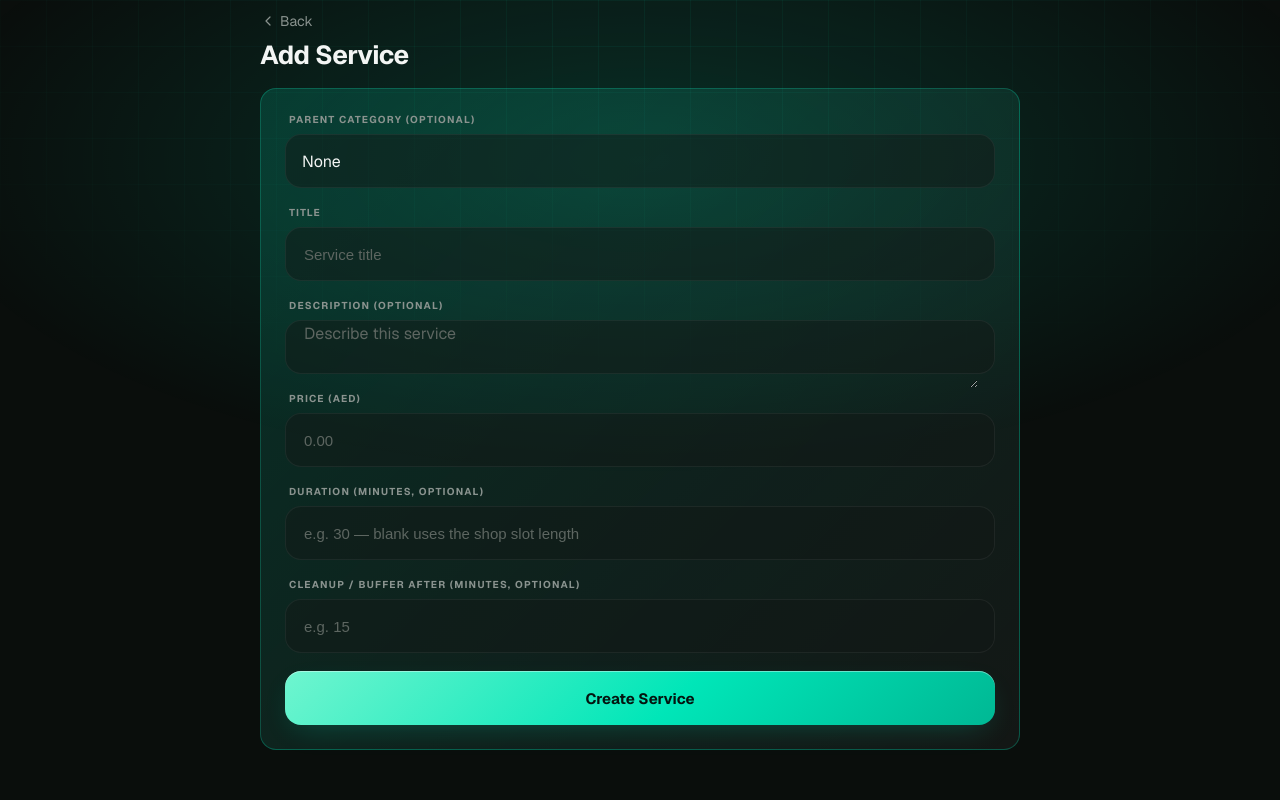
ServiceEdit (create) › blocks save without a title
The image size is (1280, 800).
Click the button "Create Service" at (640, 698), box x1=285 y1=671 x2=995 y2=725
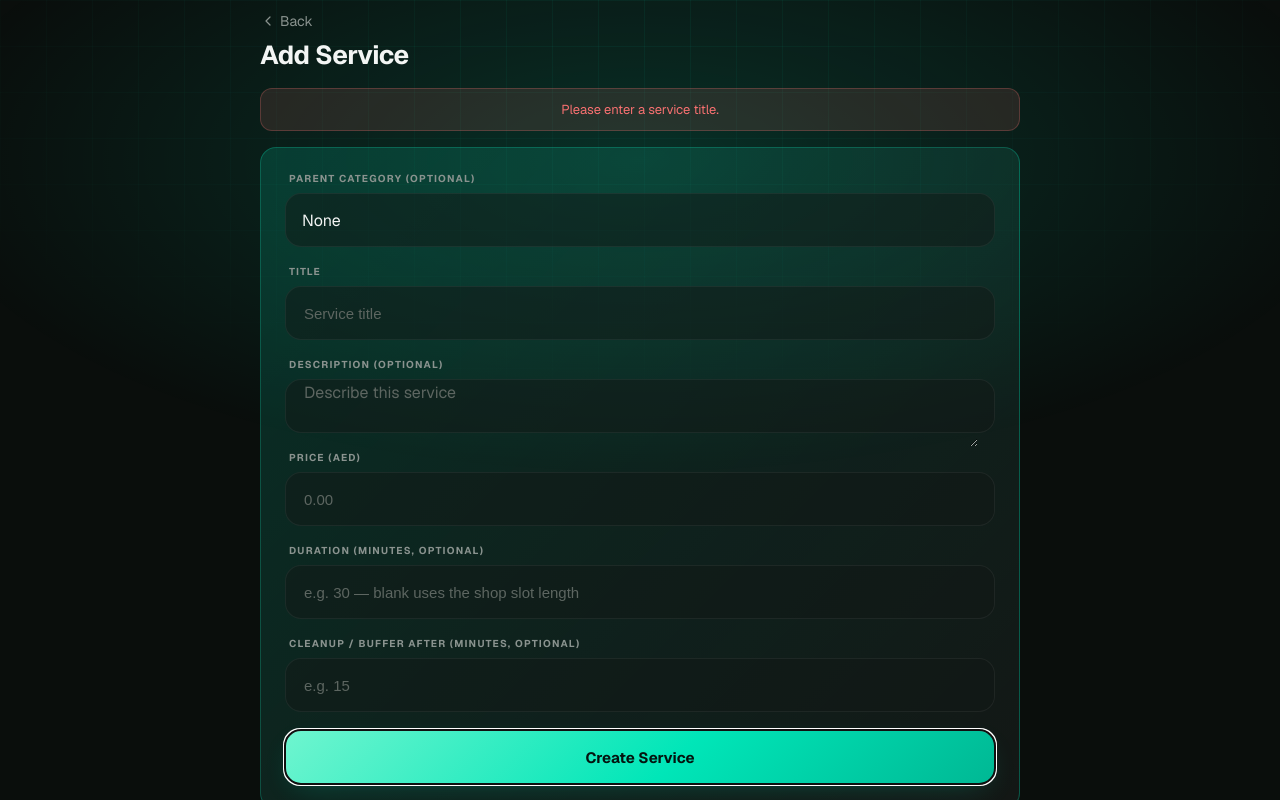
expect the text "Please enter a service title." is shown: met, box x1=260 y1=88 x2=1020 y2=131
